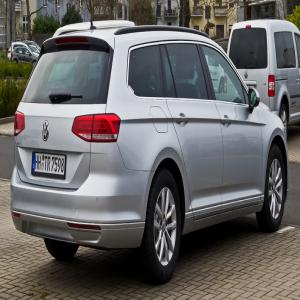Vehicle-registration-plate: (32, 142, 73, 193), (248, 85, 256, 90)
